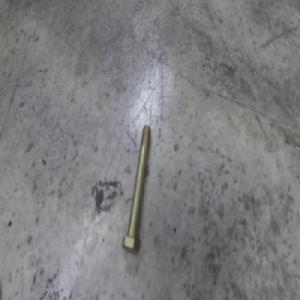Bolt: (123, 124, 151, 254)
